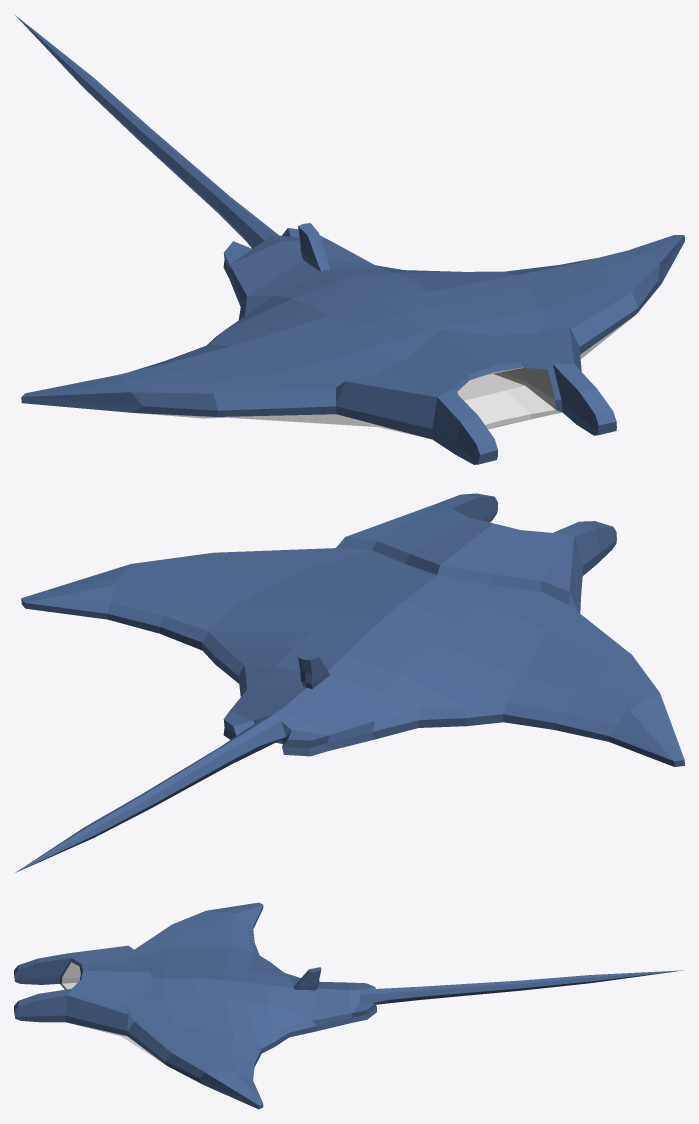
The model's file is Manta ray.fbx.
The picture shows the model from 3 angles, top to bottom: view 1: azimuth 30°, elevation 25°; view 2: azimuth 150°, elevation 25°; view 3: azimuth 270°, elevation 25°; orthographic projection. The views are drawn at different scales.
Parts seen in each view (by area): view 1: MantaRay; view 2: MantaRay; view 3: MantaRay.
Part boxes in pixels (x1=…): MantaRay: x1=14, y1=14, x2=684, y2=464; MantaRay: x1=15, y1=493, x2=684, y2=872; MantaRay: x1=14, y1=902, x2=683, y2=1109.
Size of the model in its own units: 839 by 115 by 1170.
